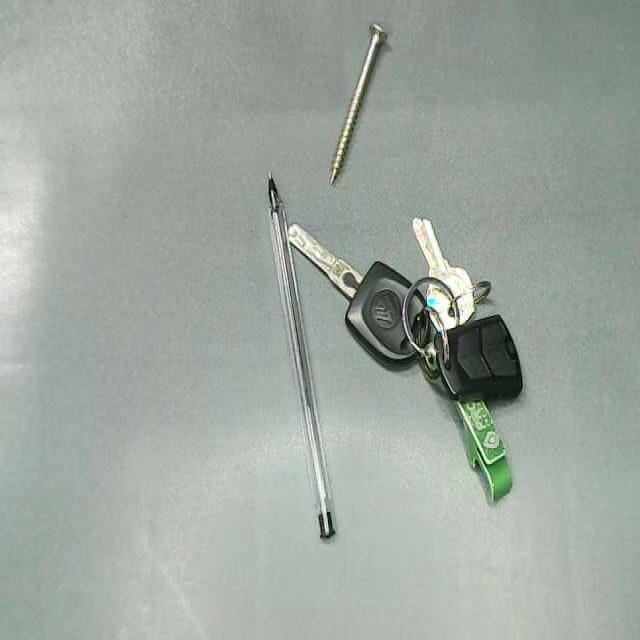Parafuso: (330, 23, 385, 183)
